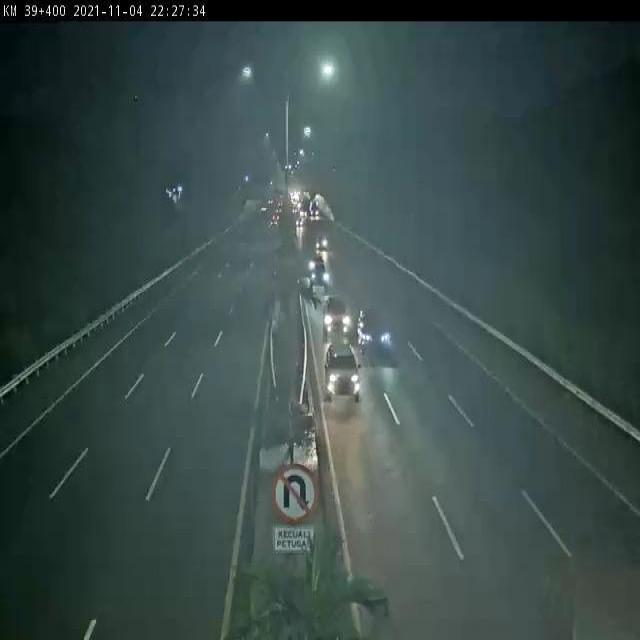car: (324, 343, 362, 401), (356, 305, 393, 355), (321, 296, 352, 336), (310, 264, 330, 287)
